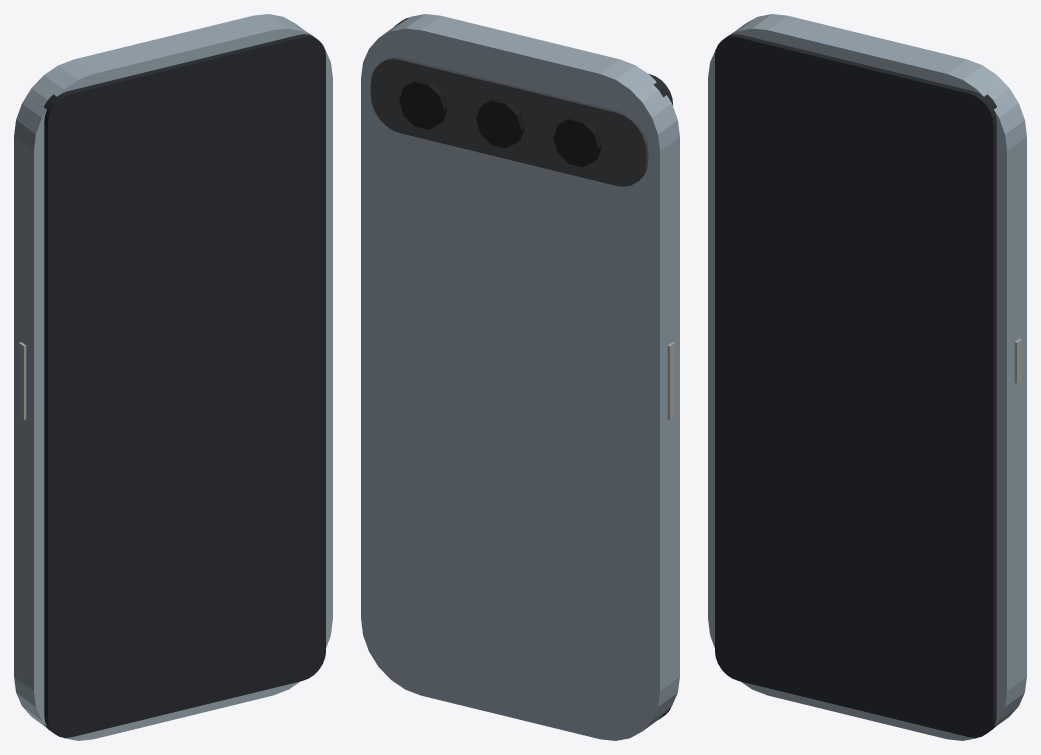
The model's file is 23_google_pixel_8_pro.glb.
The picture shows the model from 3 angles, left to right: view 1: azimuth 30°, elevation 25°; view 2: azimuth 150°, elevation 25°; view 3: azimuth 330°, elevation 25°; orthographic projection.
Visible parts, largest first — view 1: geometry_1, geometry_0, geometry_3; view 2: geometry_0, geometry_5, geometry_8, geometry_6, geometry_7, geometry_3; view 3: geometry_1, geometry_0.
Boxes of the visible parts, x1,y1,x2,y2 form: geometry_1: [44, 32, 325, 737]; geometry_0: [14, 14, 332, 740]; geometry_3: [19, 342, 26, 419]; geometry_0: [361, 14, 679, 740]; geometry_5: [370, 57, 648, 186]; geometry_8: [399, 79, 447, 129]; geometry_6: [553, 116, 601, 167]; geometry_7: [476, 98, 524, 148]; geometry_3: [667, 342, 674, 419]; geometry_1: [715, 32, 996, 737]; geometry_0: [708, 14, 1026, 740].
Size of the model in its own units: 0.2484 by 0.5218 by 0.0422.
